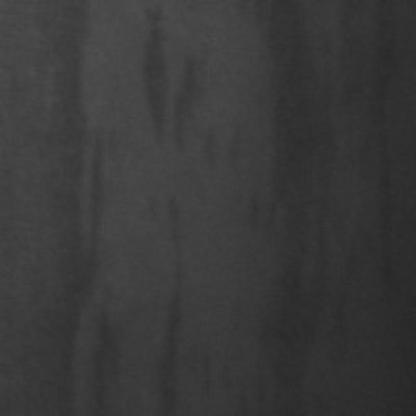inclusion: (247, 4, 337, 408), (14, 4, 98, 408), (139, 185, 196, 410), (360, 2, 399, 304), (129, 2, 193, 158)
